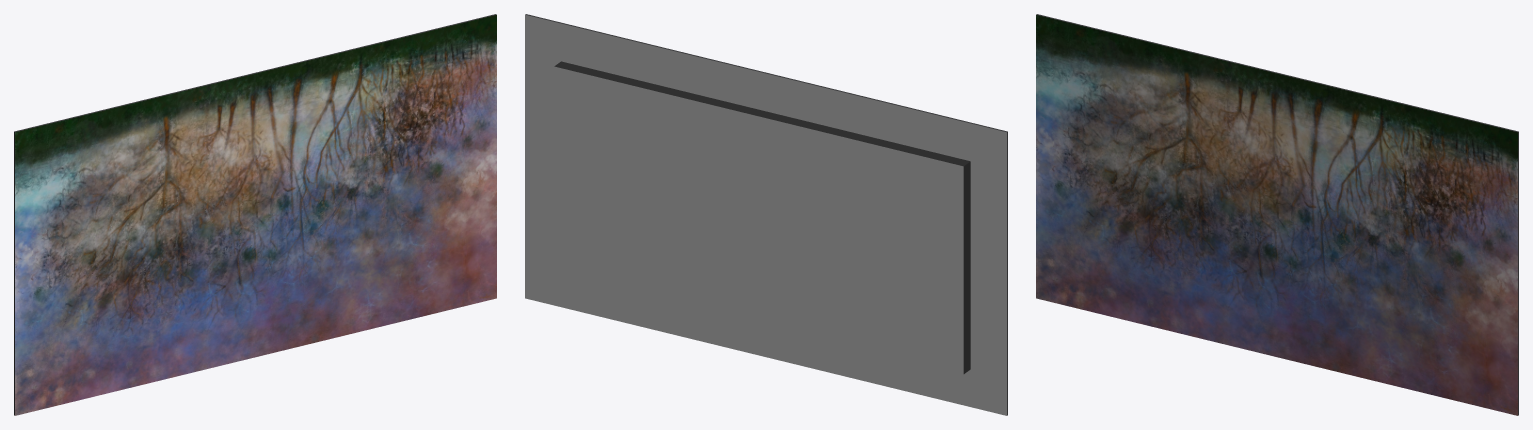
The model's file is hz051_moyen_dibond.glb.
3 views of the same model, side by side, from view 1: azimuth 30°, elevation 25°; view 2: azimuth 150°, elevation 25°; view 3: azimuth 330°, elevation 25° (orthographic).
Visible parts, largest first — view 1: hz051_moyen_dibond; view 2: hz051_moyen_dibond; view 3: hz051_moyen_dibond.
Part boxes in pixels (x1=…): hz051_moyen_dibond: x1=14, y1=14, x2=496, y2=415; hz051_moyen_dibond: x1=525, y1=14, x2=1007, y2=415; hz051_moyen_dibond: x1=1036, y1=14, x2=1518, y2=415.
Size of the model in its own units: 0.8 by 0.45 by 0.023.
4 materials, 1 textured.
